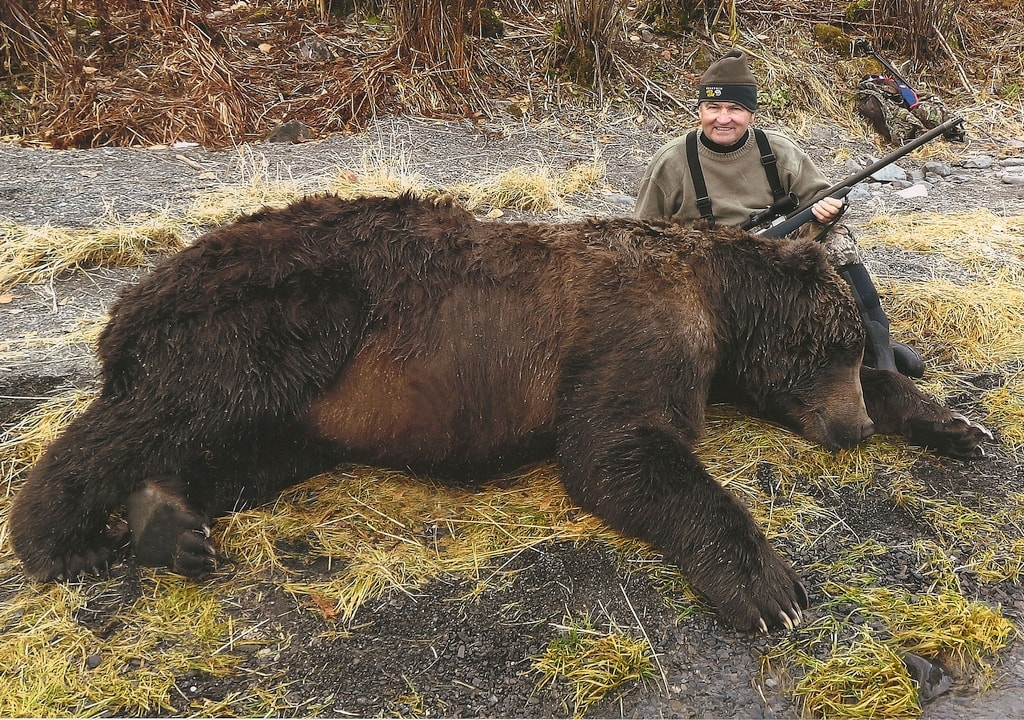bear: (729, 238, 891, 446)
